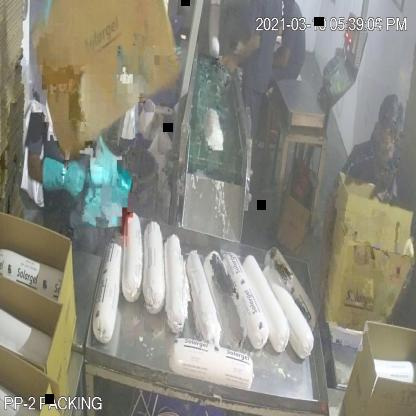glove: (37, 142, 89, 204)
no_glove: (317, 164, 345, 311), (224, 32, 264, 74)
